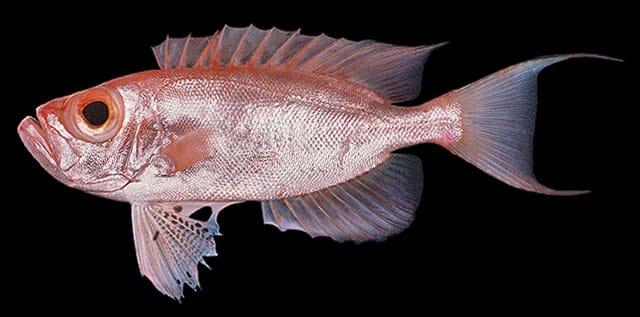Mulut: (10, 84, 68, 184)
Sirip Anal: (259, 150, 426, 246)
Sirip Dada: (157, 123, 225, 183)
Sirip Ekor: (450, 42, 632, 206)
Sirip Perut: (128, 194, 234, 304)
Sirip Punggung: (148, 19, 452, 108)
